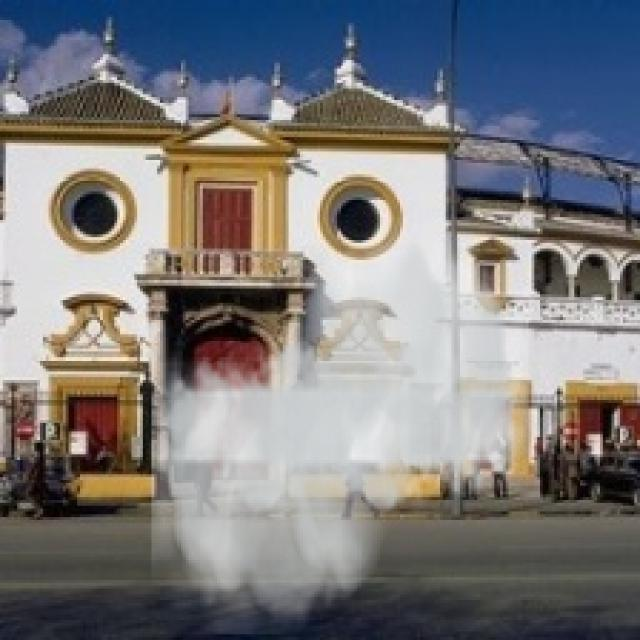Smoke: (152, 217, 528, 634)
